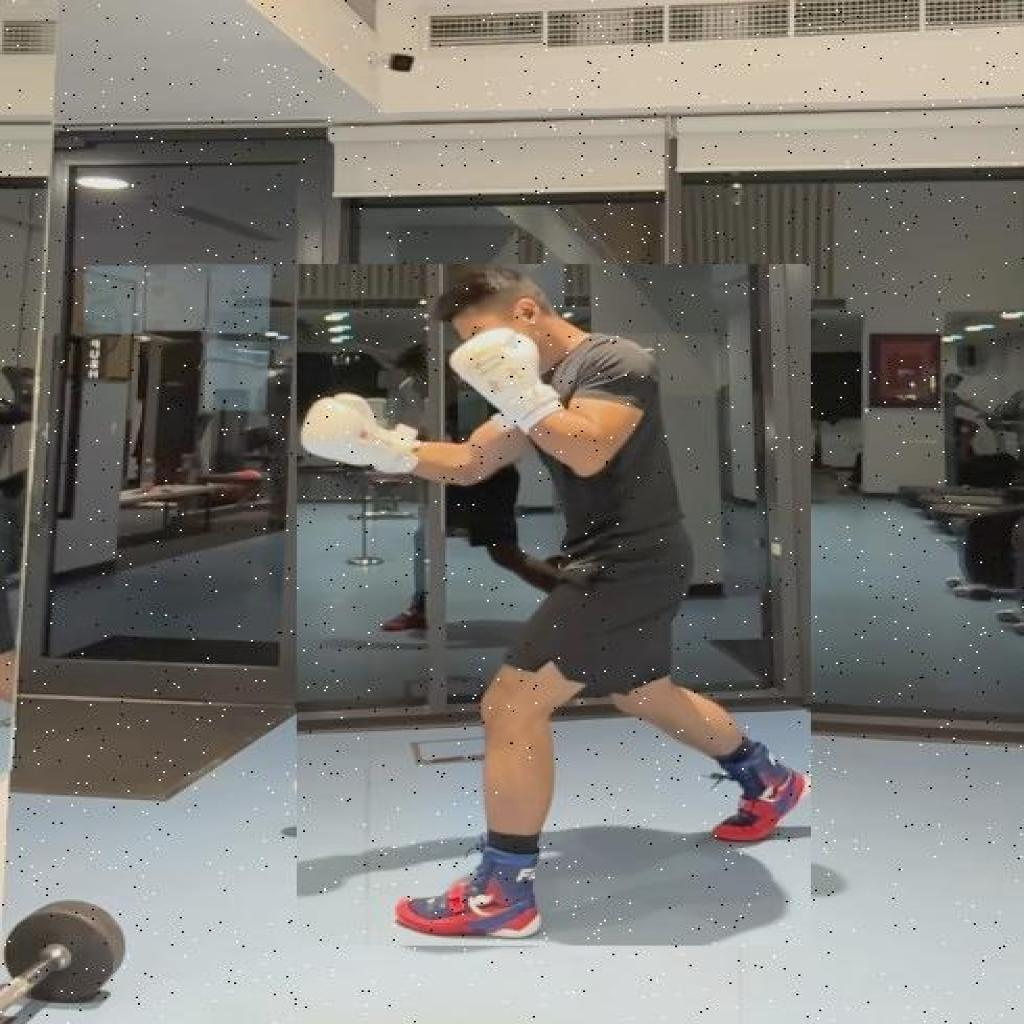uppercut: (297, 264, 812, 946)
